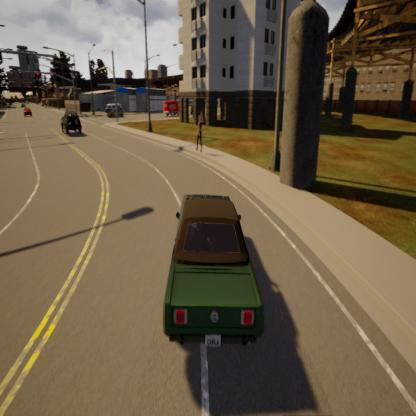Cars: (154, 172, 273, 385), (58, 108, 84, 138), (162, 98, 181, 119), (104, 100, 124, 118), (22, 104, 35, 121)
Pedestrian: (191, 115, 207, 156)
